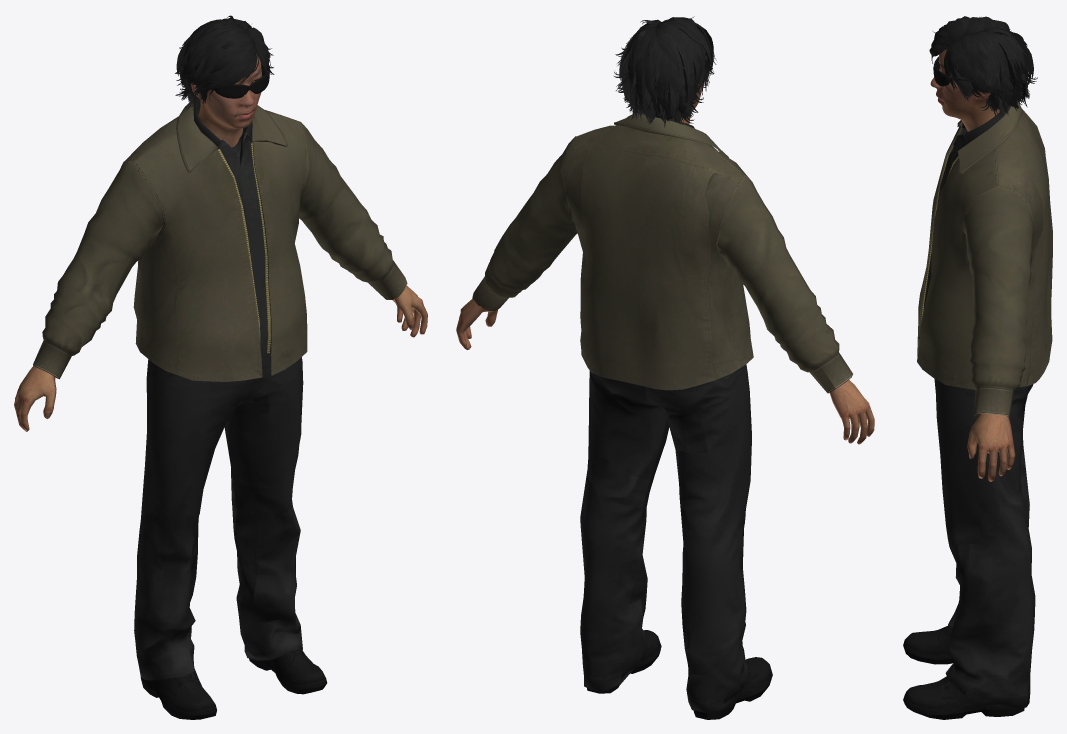
File: scoundrel.FBX
3 views of the same model, side by side, from view 1: azimuth 30°, elevation 25°; view 2: azimuth 150°, elevation 25°; view 3: azimuth 270°, elevation 25° (orthographic).
Visible parts, largest first — view 1: scoundrel_body, scoundrel_leg, scoundrel_hair, scoundrel_head, scoundrel_sunglasses; view 2: scoundrel_body, scoundrel_leg, scoundrel_hair, scoundrel_head; view 3: scoundrel_body, scoundrel_leg, scoundrel_hair, scoundrel_head, scoundrel_sunglasses.
Boxes of the visible parts, bbox=[...] form: scoundrel_body: bbox=[33, 102, 407, 381]; scoundrel_leg: bbox=[134, 351, 327, 719]; scoundrel_hair: bbox=[175, 15, 274, 109]; scoundrel_head: bbox=[14, 54, 427, 431]; scoundrel_sunglasses: bbox=[214, 68, 270, 98]; scoundrel_body: bbox=[472, 111, 852, 393]; scoundrel_leg: bbox=[580, 364, 772, 719]; scoundrel_hair: bbox=[614, 16, 716, 127]; scoundrel_head: bbox=[456, 28, 874, 444]; scoundrel_body: bbox=[917, 100, 1052, 418]; scoundrel_leg: bbox=[903, 378, 1035, 719]; scoundrel_hair: bbox=[929, 16, 1037, 119]; scoundrel_head: bbox=[930, 49, 1015, 481]; scoundrel_sunglasses: bbox=[933, 56, 1003, 92].
Bounding box in the file's own units: 1.12 × 1.75 × 0.3547.
5 materials, 5 textured.
